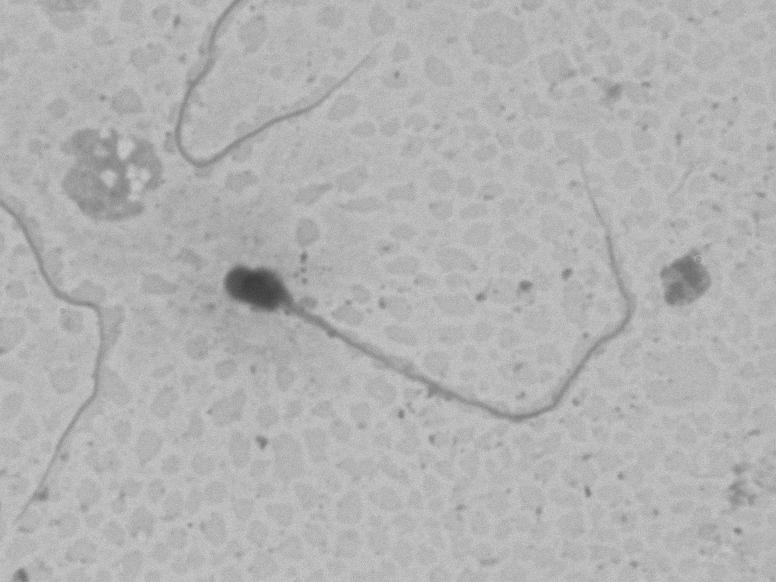Abnormal: (212, 139, 652, 436)
